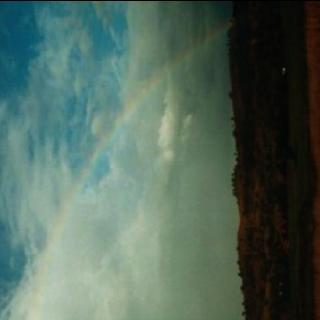Nimbostratus: (0, 0, 226, 320)
